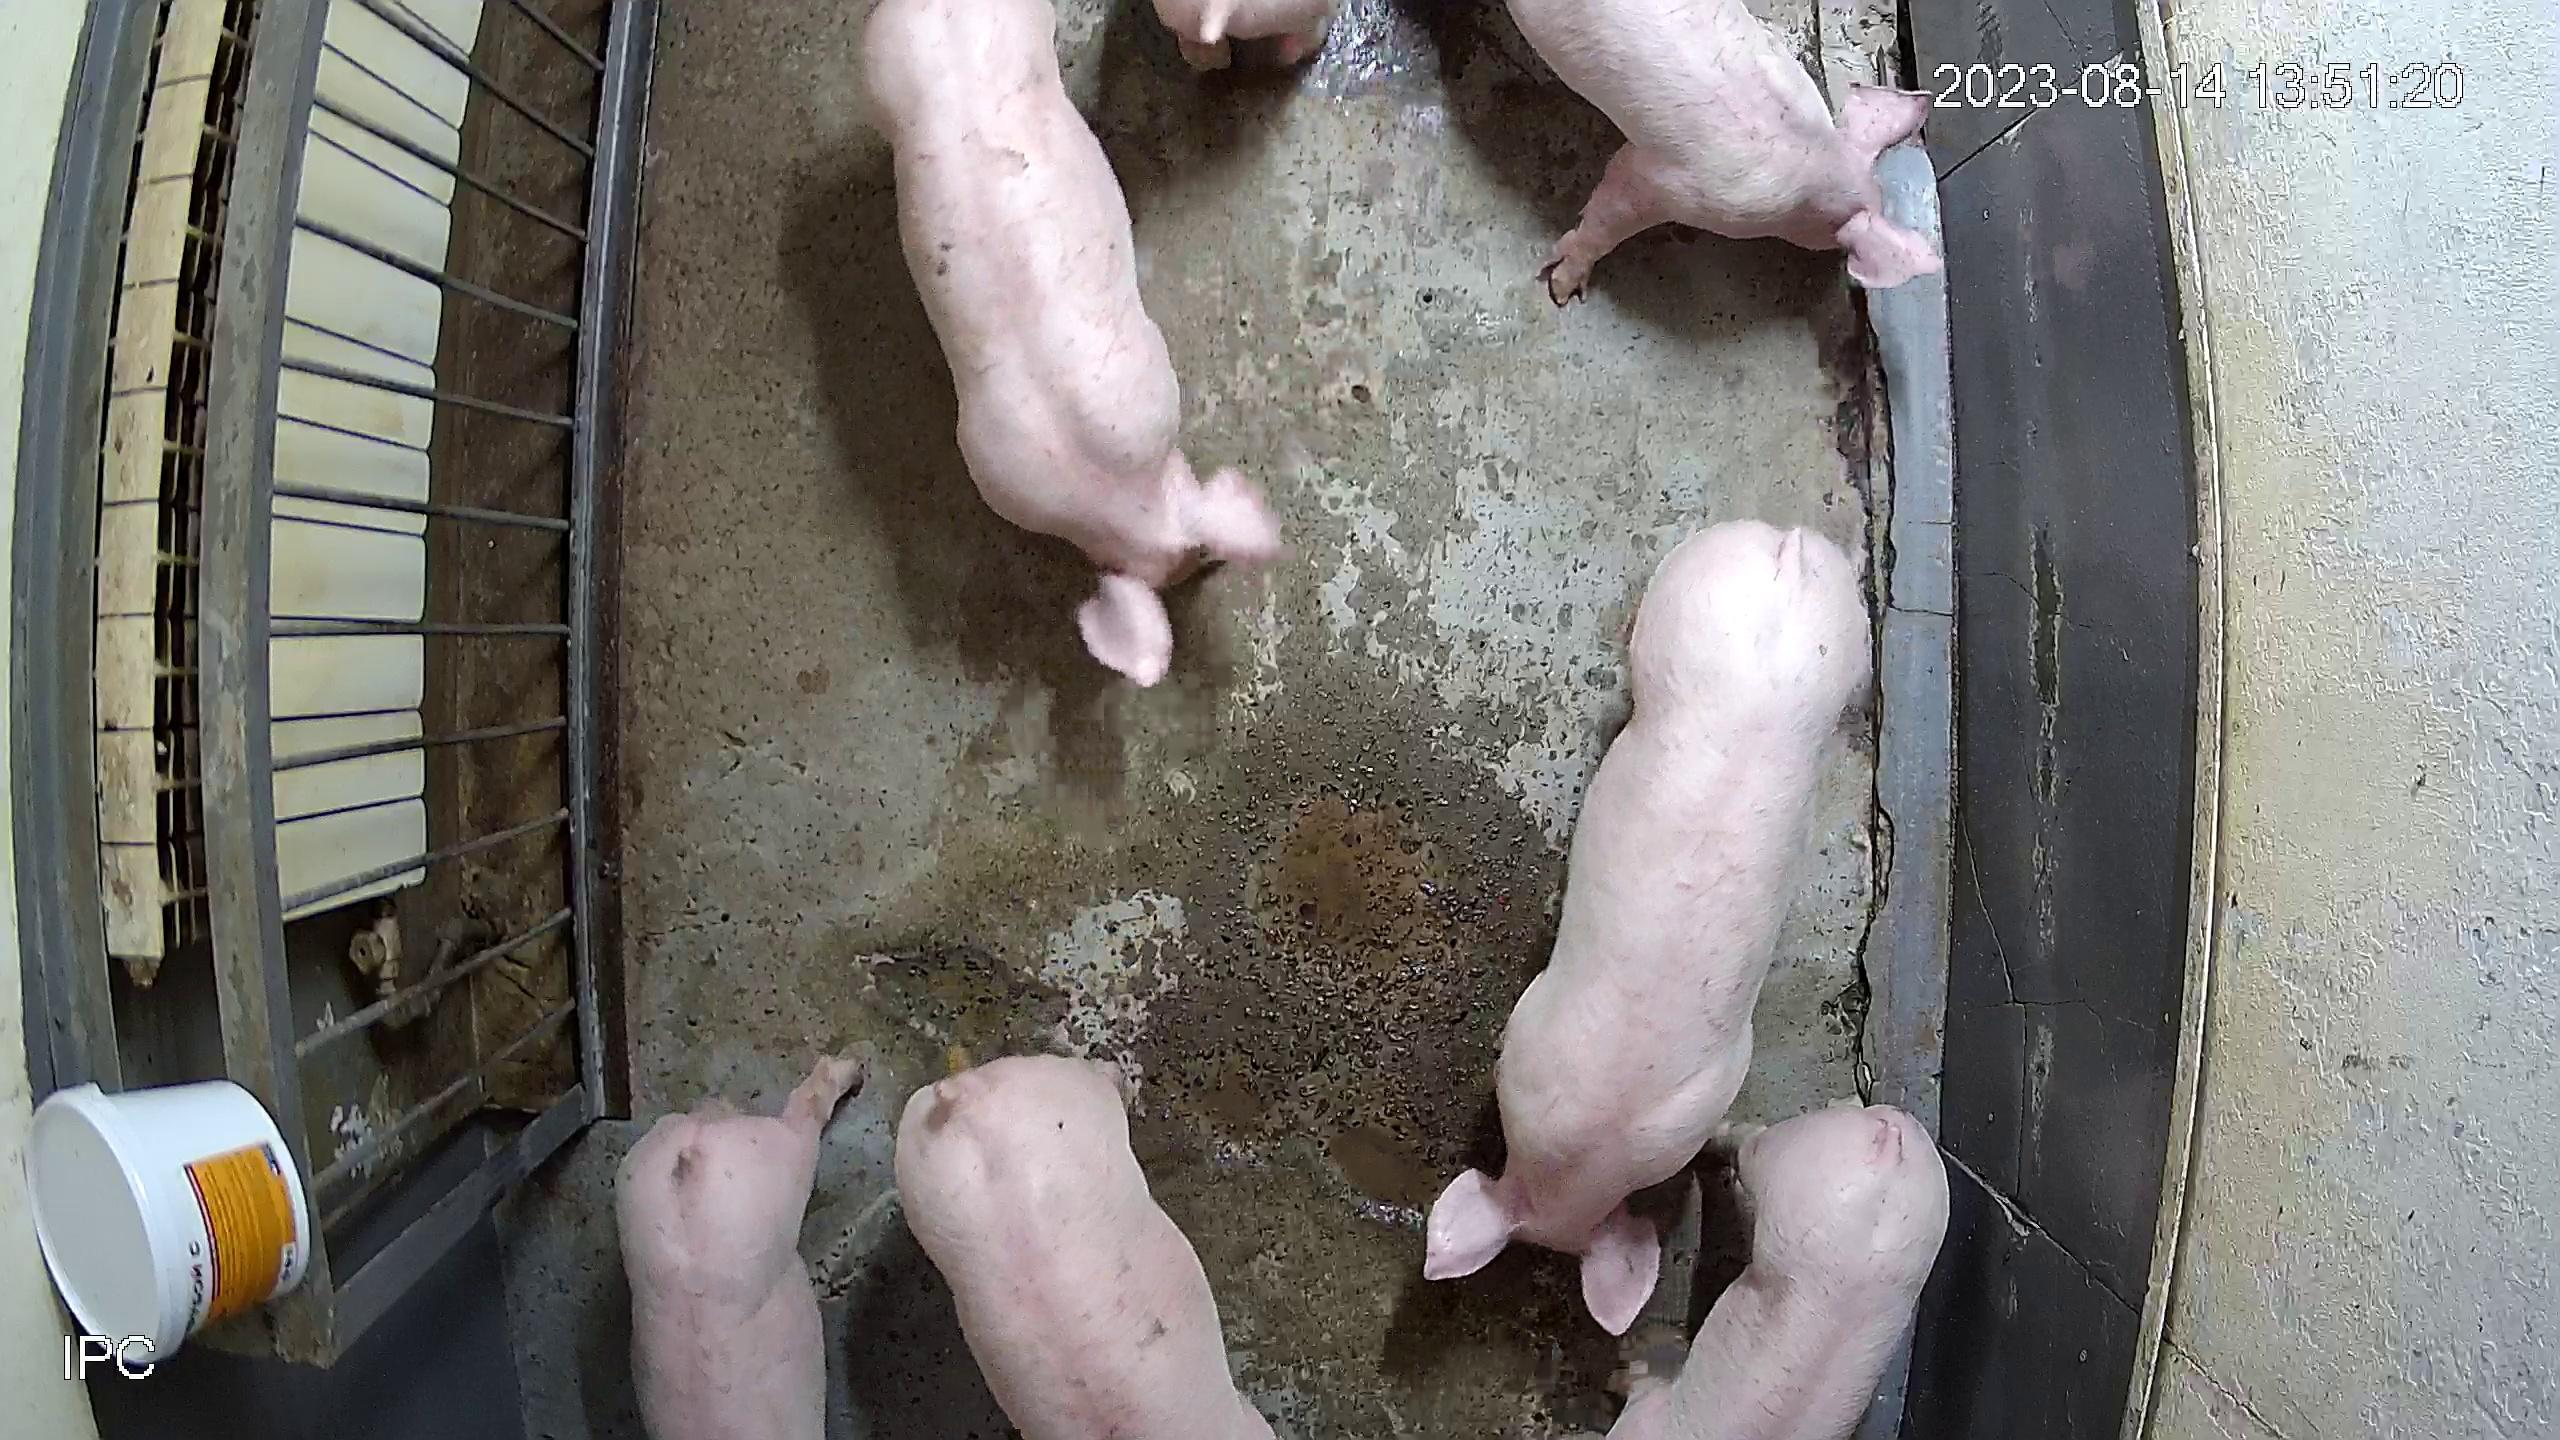Pig: (1426, 519, 1873, 1335), (863, 0, 1282, 684), (893, 1055, 1273, 1440), (1512, 0, 1945, 301), (1611, 1104, 1952, 1440), (614, 1057, 860, 1440), (1155, 0, 1335, 65)
